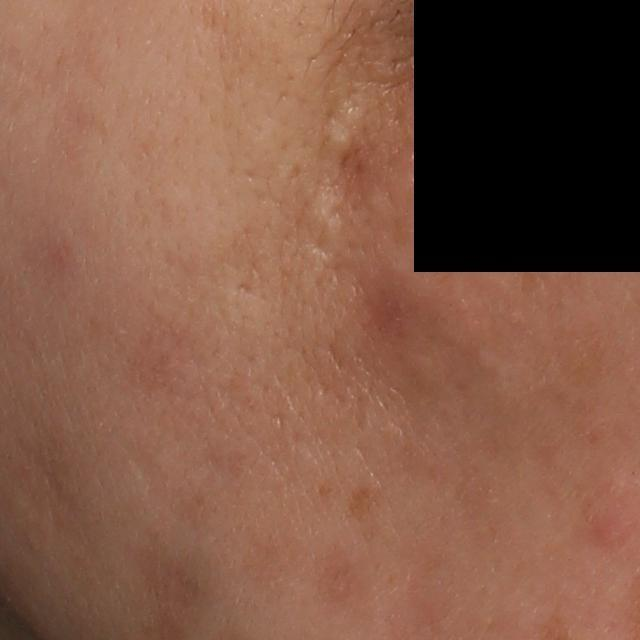hypertrophic_scar: (296, 186, 345, 283), (320, 100, 366, 154)
